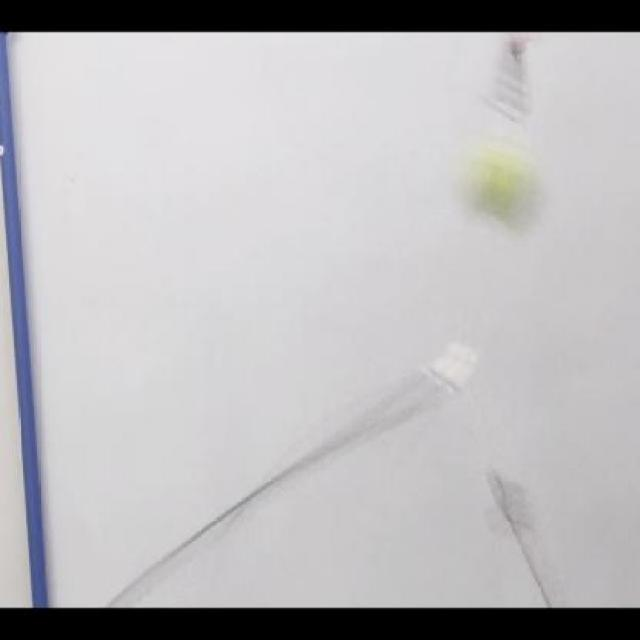baseball: (460, 145, 538, 240)
